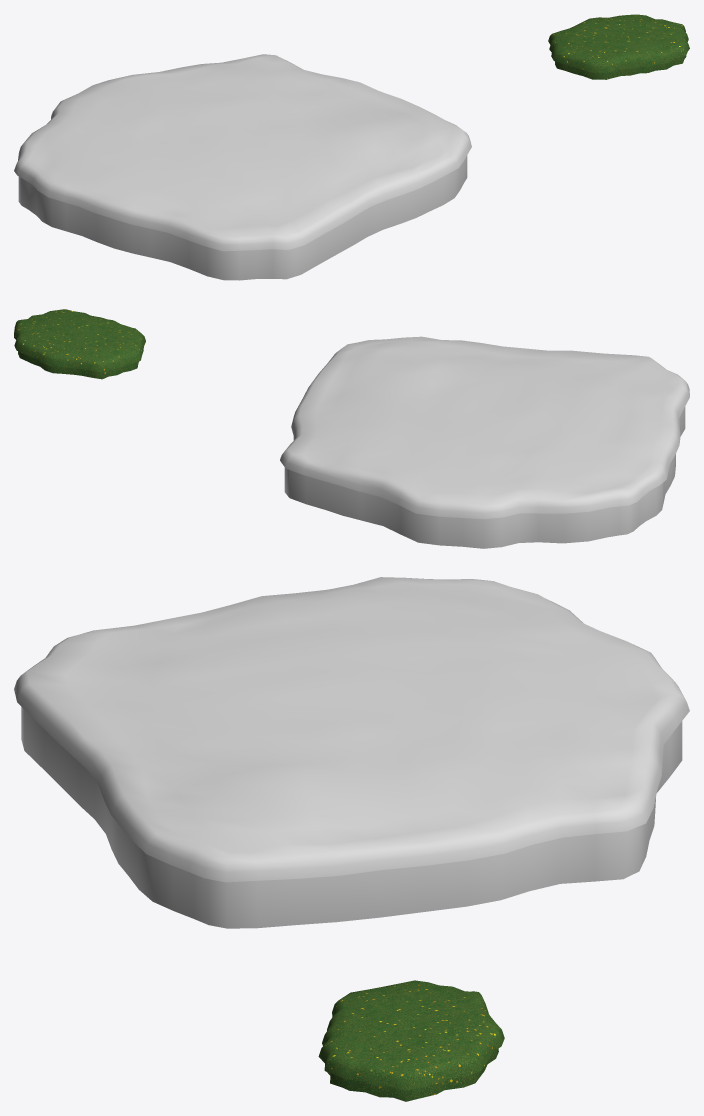
The model's file is Grass 3.fbx.
3 views of the same model, one above another, from view 1: azimuth 30°, elevation 25°; view 2: azimuth 150°, elevation 25°; view 3: azimuth 270°, elevation 25° (orthographic). The views are drawn at different scales.
Parts seen in each view (by area): view 1: Circle.002, Circle.001; view 2: Circle.002, Circle.001; view 3: Circle.002, Circle.001.
Part boxes in pixels (x1,y1,x2,y2): Circle.002: [14, 54, 471, 280]; Circle.001: [548, 14, 689, 79]; Circle.002: [280, 336, 689, 548]; Circle.001: [14, 309, 145, 379]; Circle.002: [14, 577, 689, 928]; Circle.001: [318, 980, 504, 1101].
Bounding box in the file's own units: 1327 × 101 × 752.
